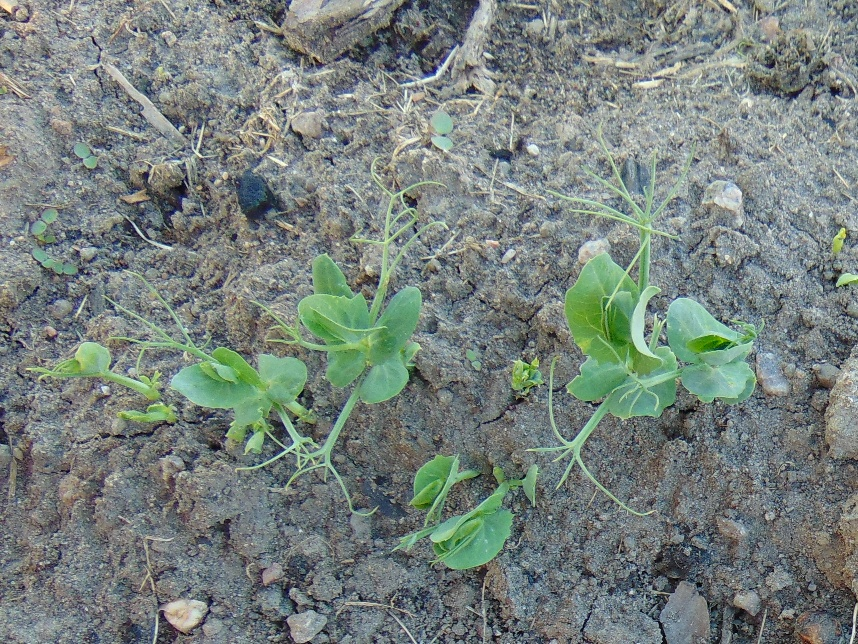crop: (542, 177, 764, 487), (277, 186, 440, 495), (116, 295, 315, 467), (391, 452, 537, 573), (31, 325, 170, 432)
weed: (33, 243, 77, 280), (428, 107, 458, 152), (31, 207, 60, 240), (74, 141, 100, 168)
